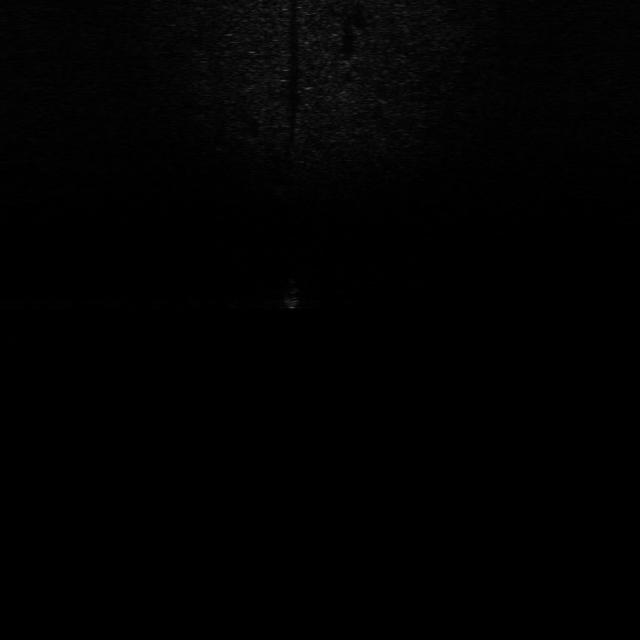human body: (270, 276, 314, 316)
